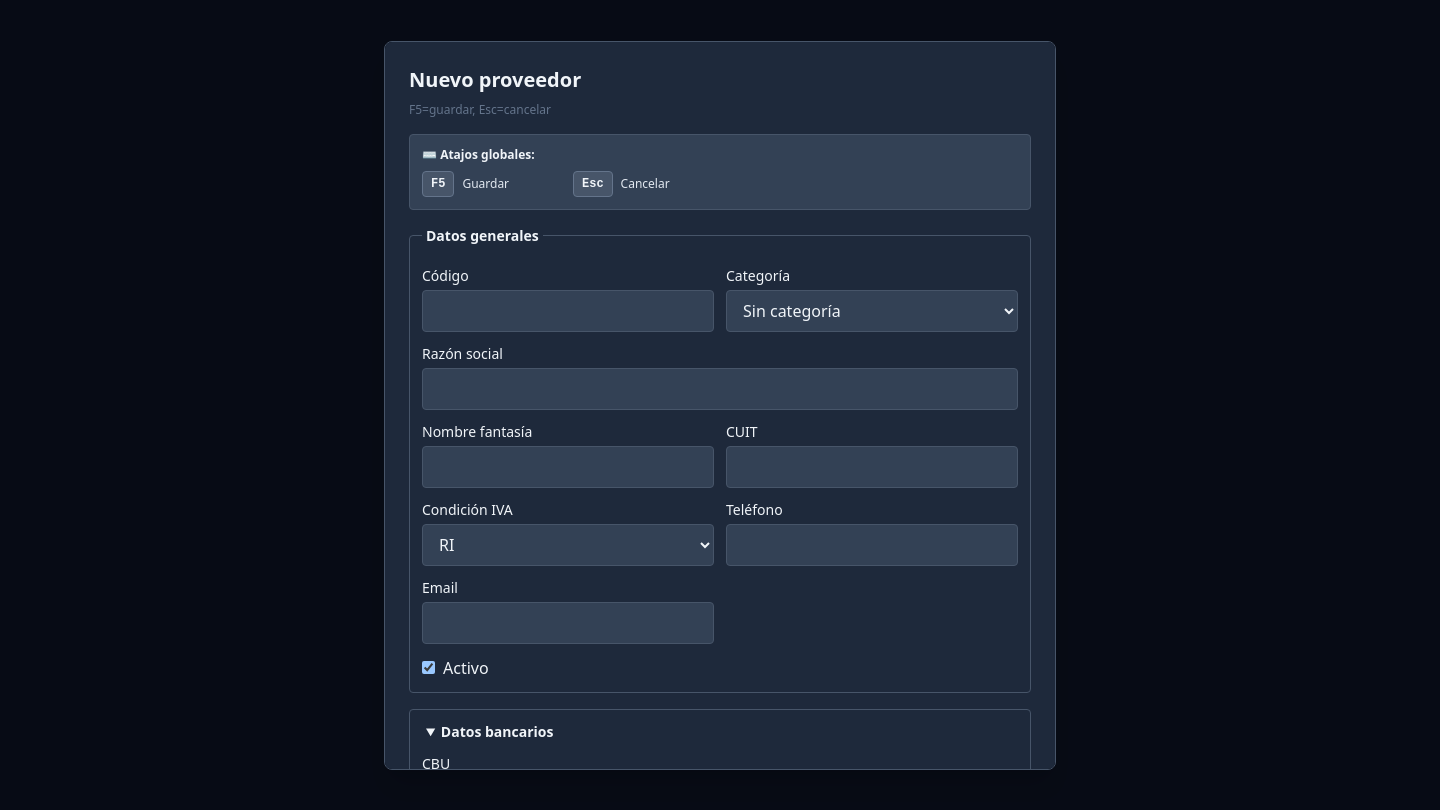
Test: ProveedorForm › muestra formulario nuevo y valida CBU inválido
Expected: the dialog with test id "dialog-proveedor-form" is shown, [384,40,1056,770]
In the number field with test id "proveedor-form-codigo": coordinates (568, 310) [422,290,714,332], type "5001"
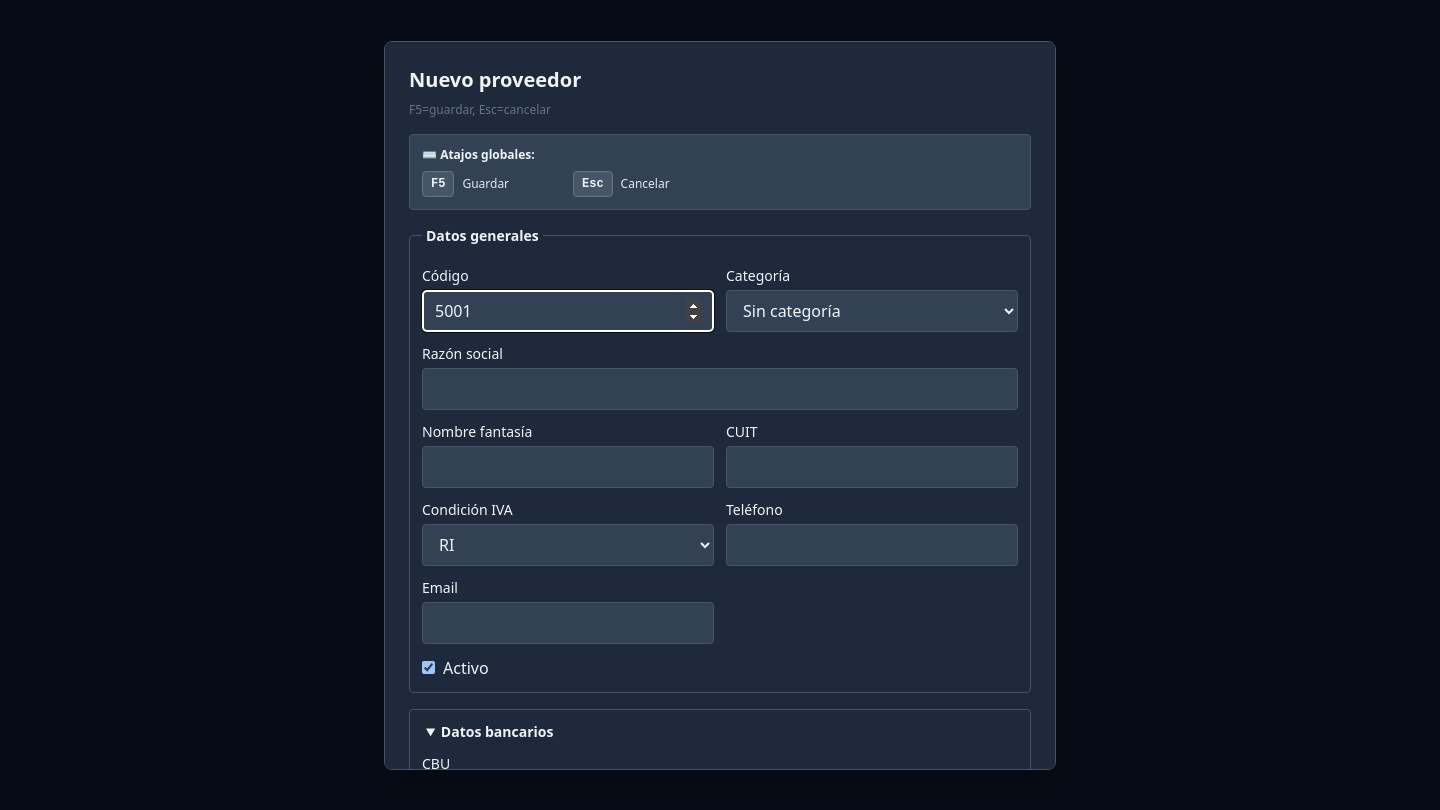
In the field with test id "proveedor-form-rsocial": coordinates (720, 388) [422,368,1018,410], type "Proveedor Test SA"
(page scrolled)
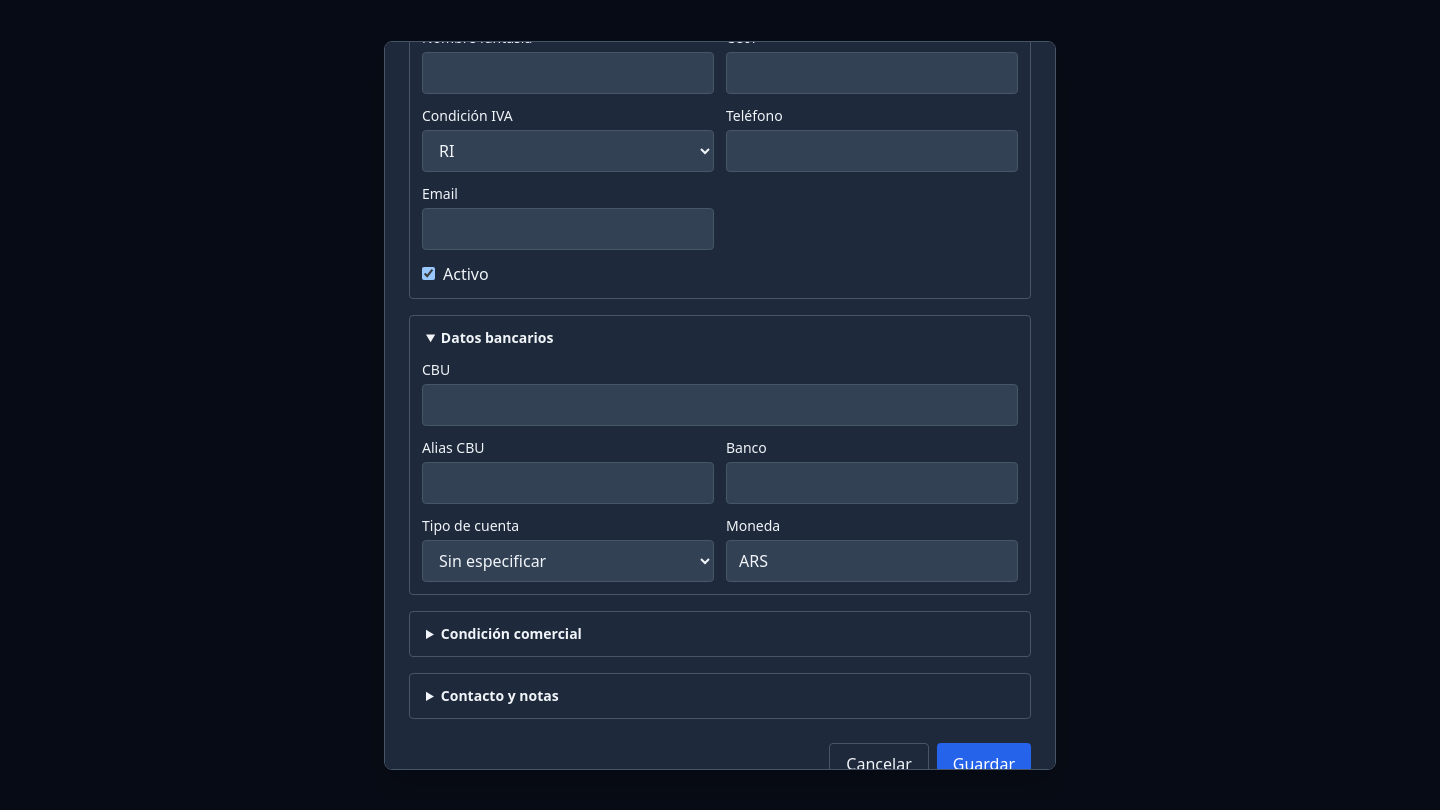
In the field with test id "proveedor-form-cbu": coordinates (720, 404) [422,384,1018,426], type "1234567890123456789012"
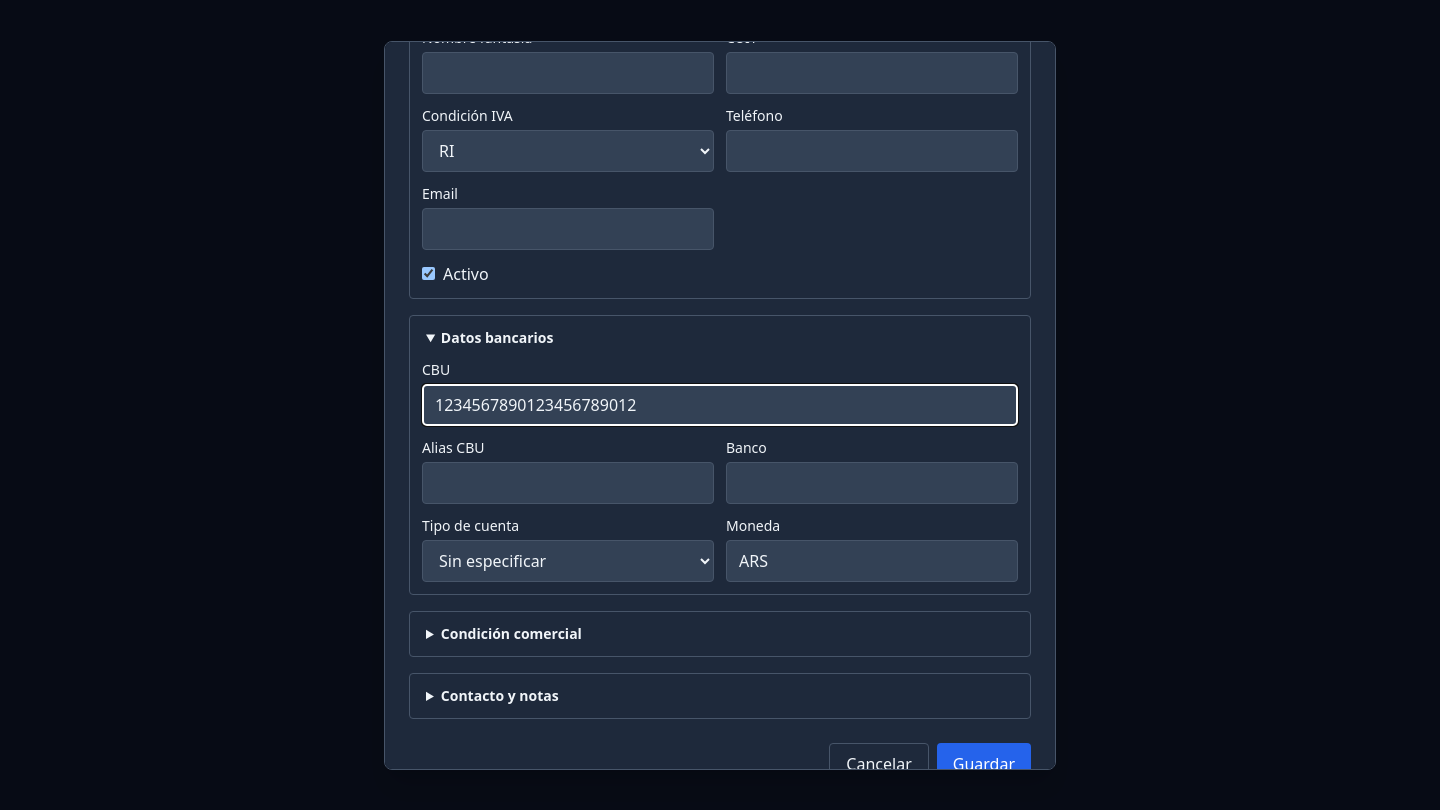
Click the button with test id "btn-guardar-proveedor": coordinates (984, 764) [937,742,1031,784]
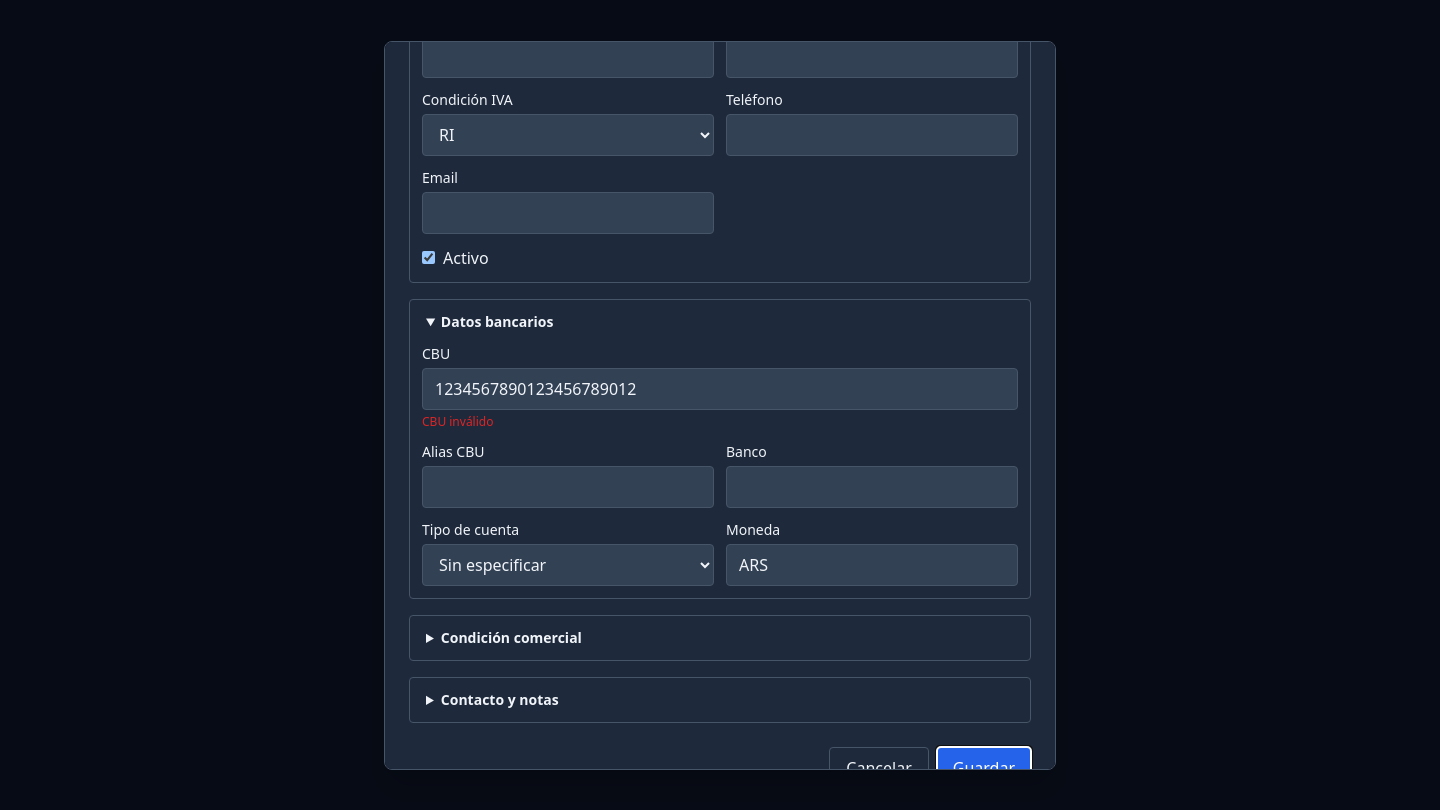
Now the text "CBU inválido" is shown, box [422,412,494,430]
